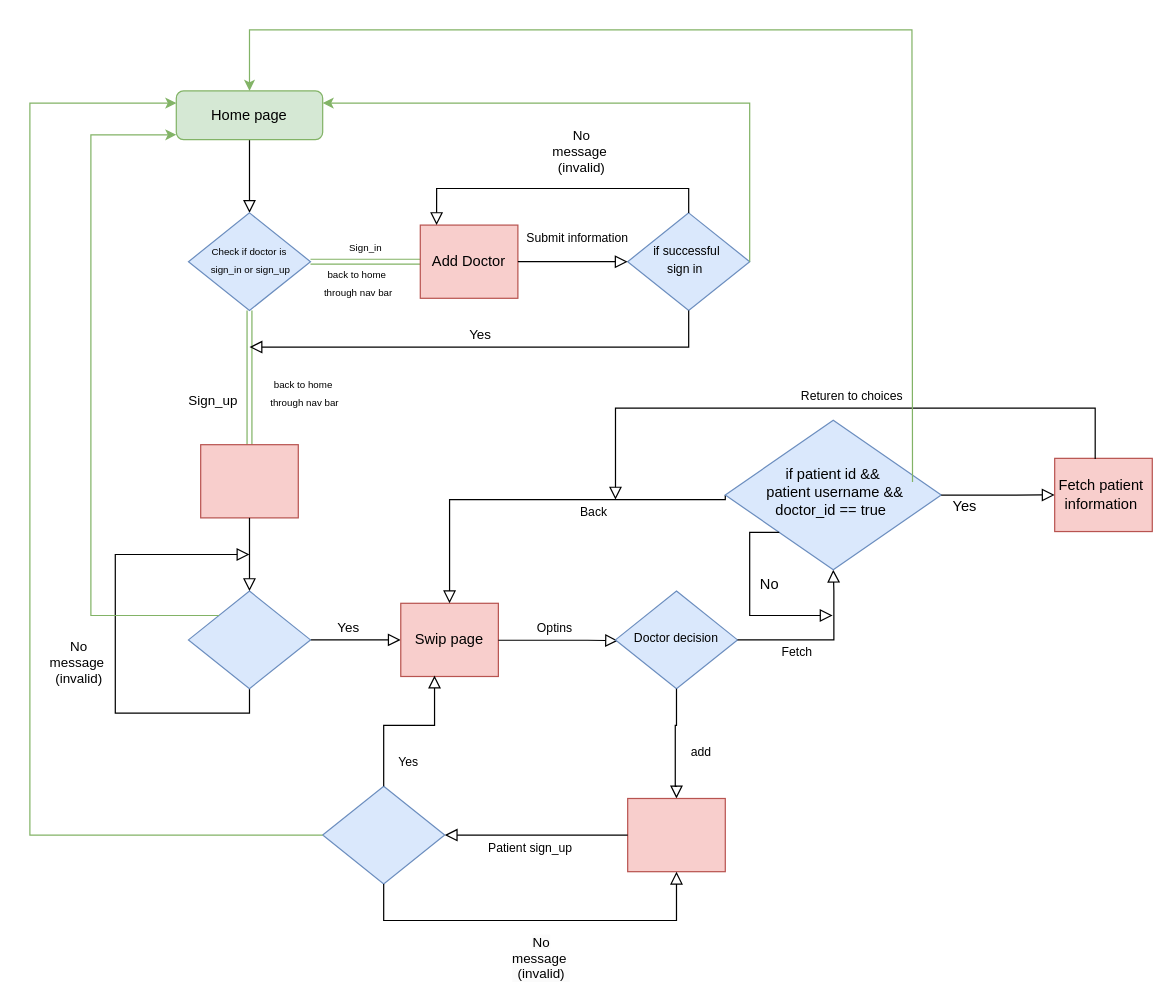
The diagram is 1174 pixels wide and 1003 high, and some of its shapes have lost their labels. Here are the shapes that lost their labels. From the top down, the centre of each, then its label:
point 248,480: doctor Login
point 248,639: if successful sign_in
point 383,834: if successful sign_up
point 675,834: Add Patient information
